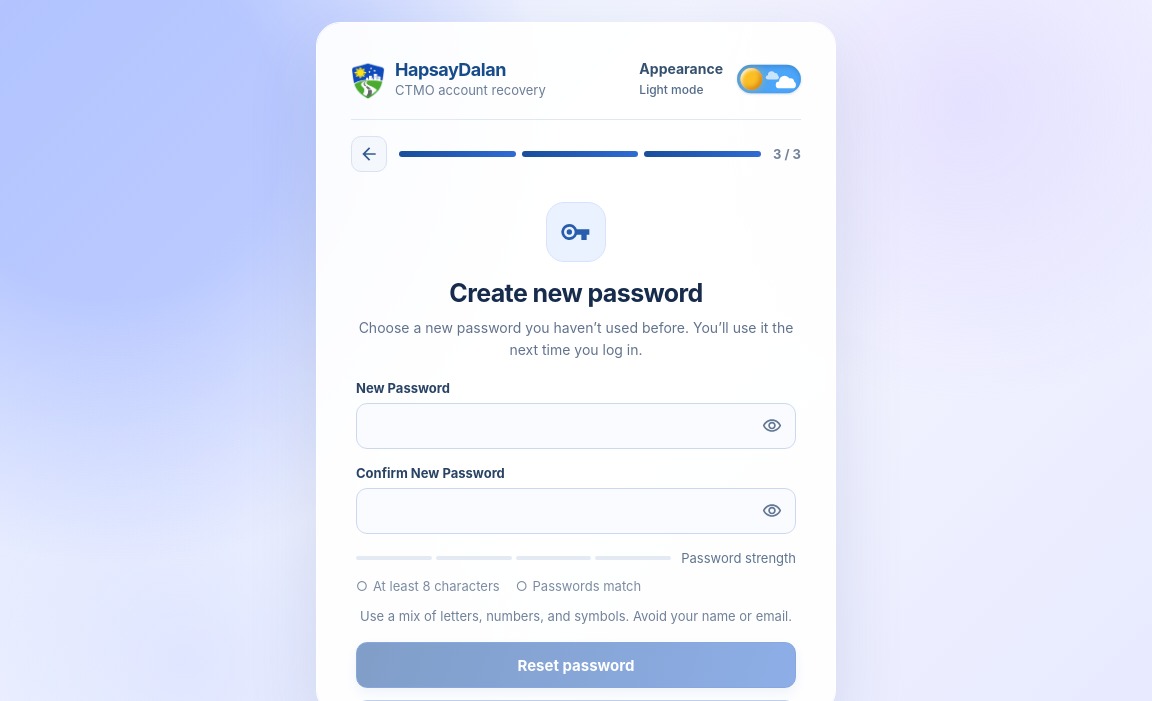
Scenario: server password rules keep recovery open without showing success
Type "password123" into the password field labelled "New Password".
click(576, 426); type("password123")  # box [356, 403, 796, 449]
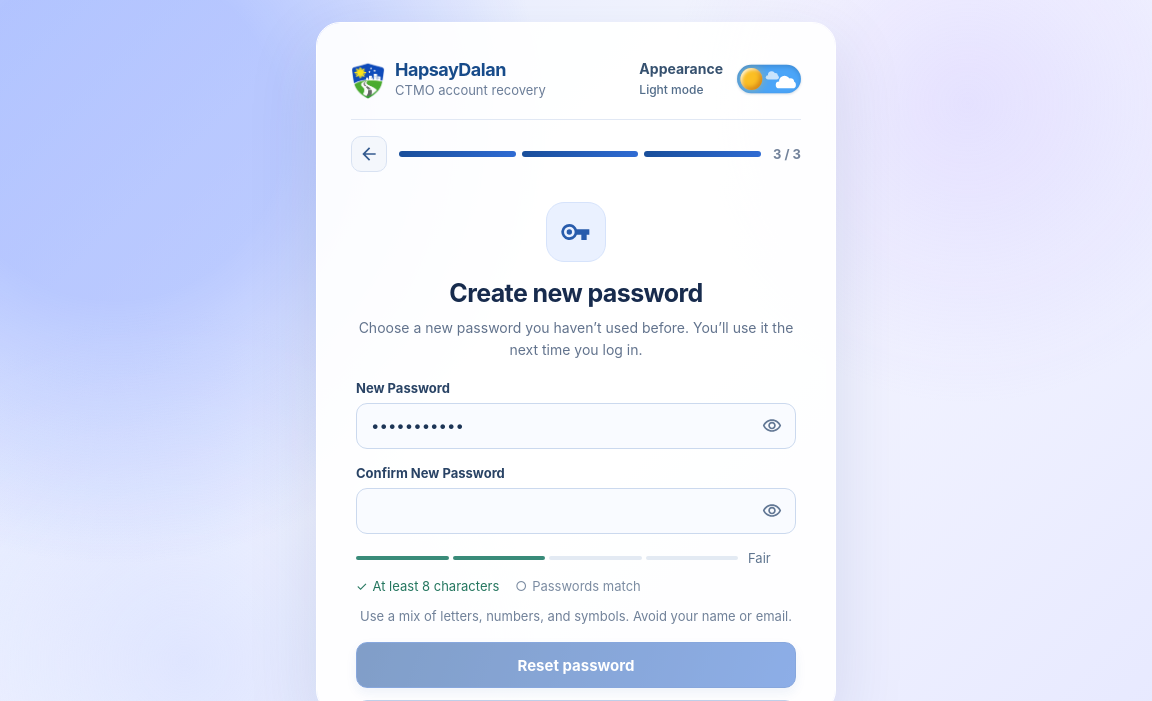
Type "password123" into the password field labelled "Confirm New Password".
click(576, 511); type("password123")  # box [356, 488, 796, 534]
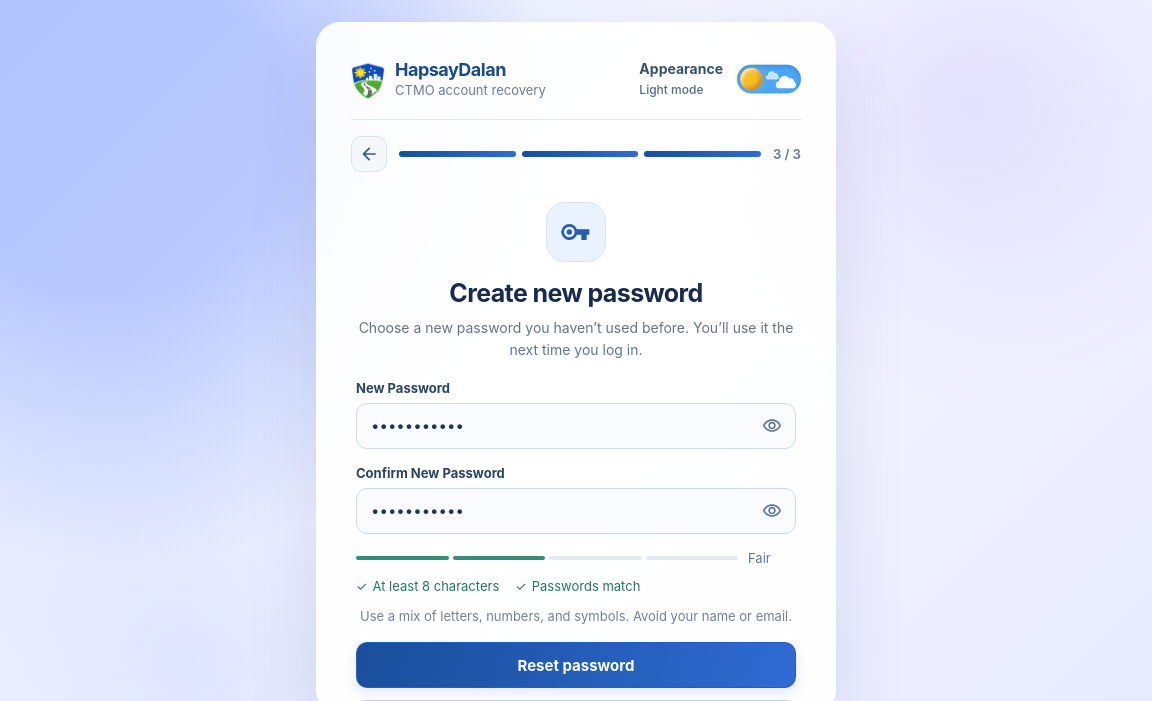
Click the button "Reset password".
click(576, 665)  # box [356, 642, 796, 688]
(page scrolled)
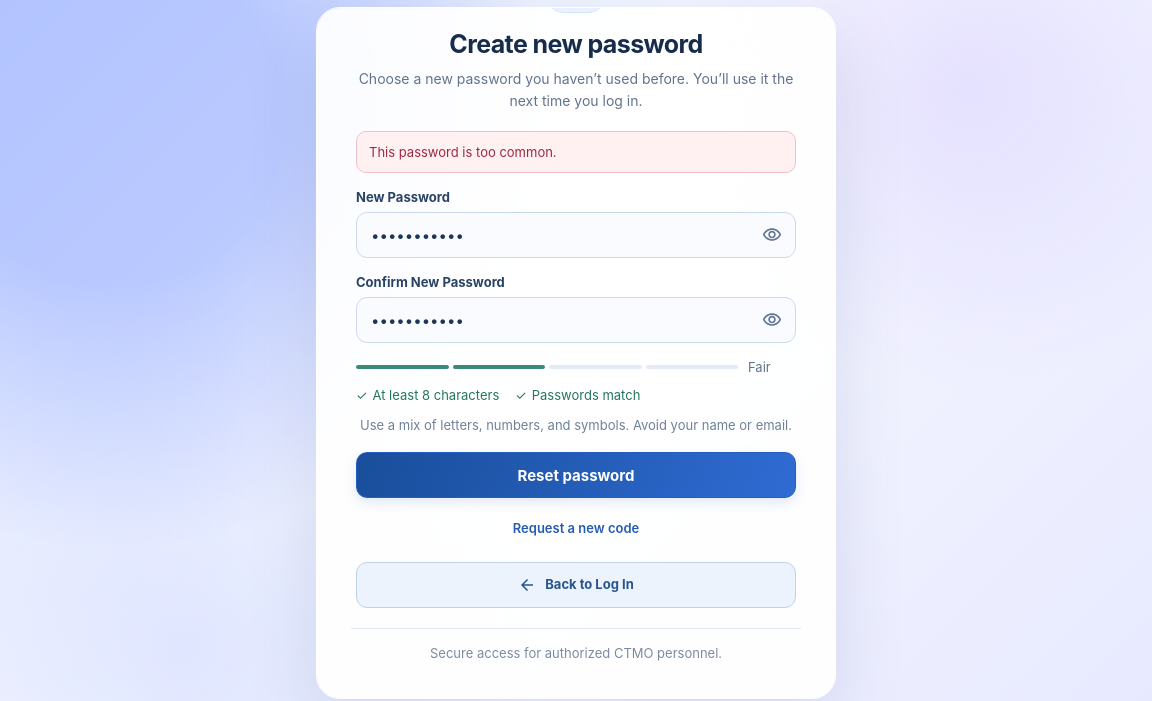
Expected: the button "Reset password" is enabled, [356, 452, 796, 498]
Expected: the message reads "This password is too common.", [369, 144, 557, 160]
